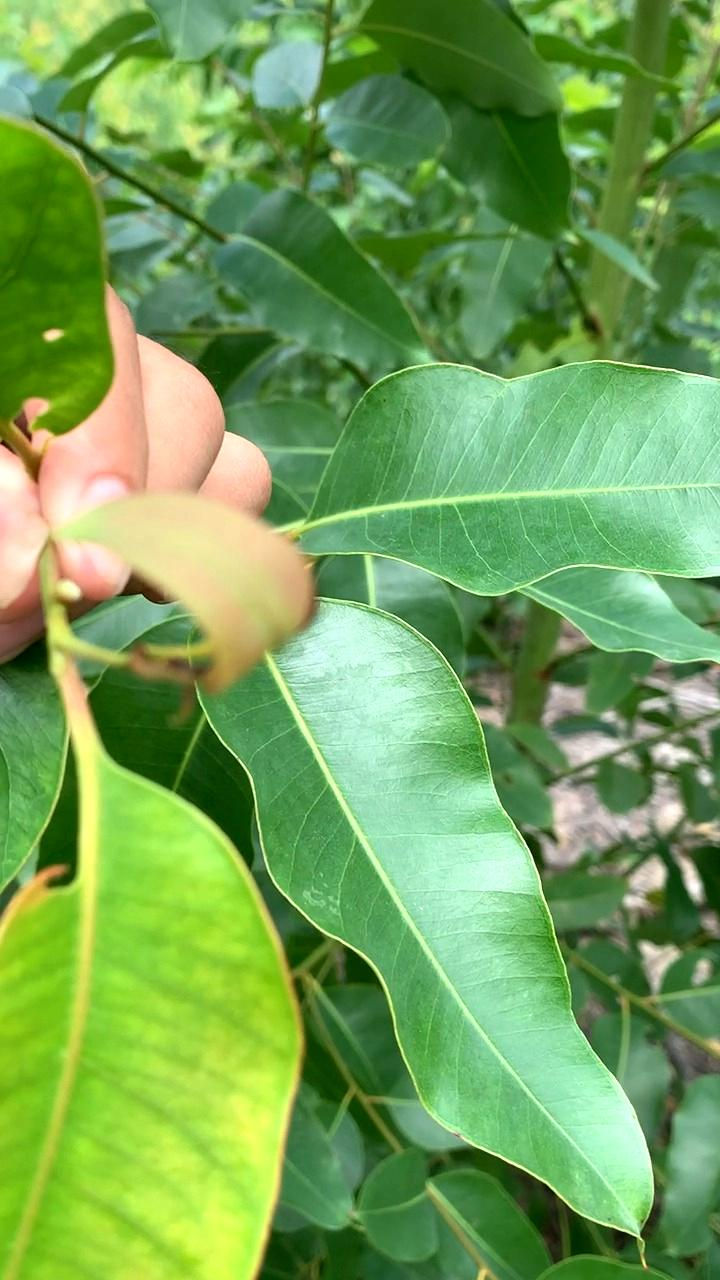Helopeltis-Withered Sprout: (90, 498, 325, 695)
